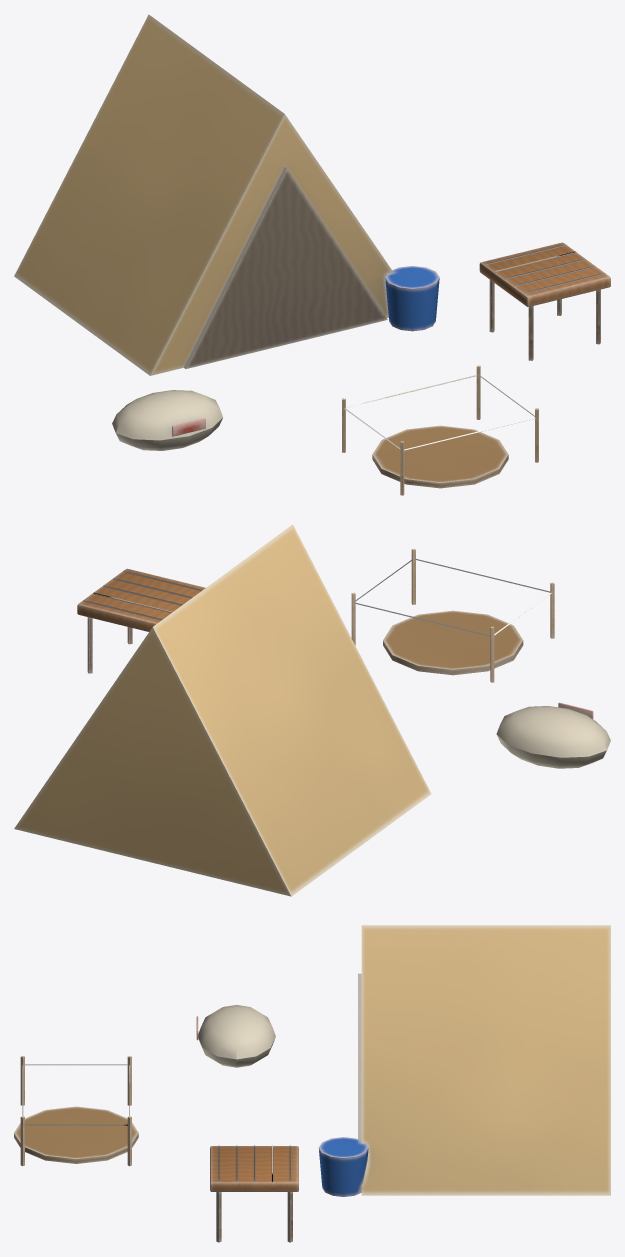
File: dress_dig_camp.glb
3 renders of one model, top to bottom at view 1: azimuth 30°, elevation 25°; view 2: azimuth 150°, elevation 25°; view 3: azimuth 270°, elevation 25°, orthographic. The views are drawn at different scales.
Visible parts, largest first — view 1: SM_DressDigCamp; view 2: SM_DressDigCamp; view 3: SM_DressDigCamp.
Part boxes in pixels (left/top/right/bottom): SM_DressDigCamp: left=14, top=14, right=610, bottom=495; SM_DressDigCamp: left=14, top=524, right=610, bottom=896; SM_DressDigCamp: left=14, top=925, right=610, bottom=1242.
Size of what is drawn, in the model's own units: 2.86 by 1.33 by 3.35.
1 material, 1 textured.
